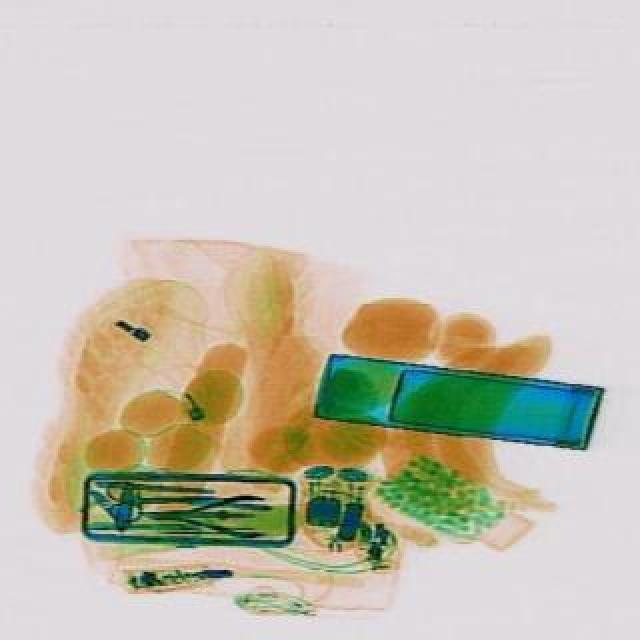pliers: (106, 480, 206, 520)
wrench: (142, 492, 264, 536)
